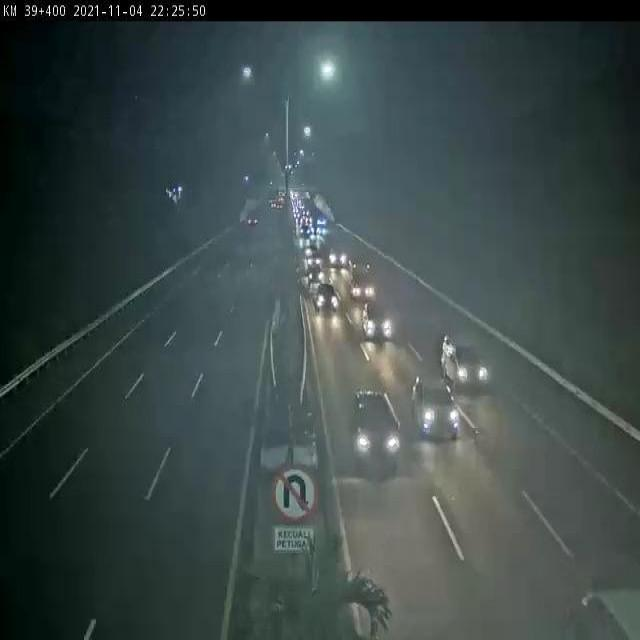car: (349, 385, 409, 484), (568, 574, 640, 640), (432, 332, 504, 395), (410, 372, 463, 448), (357, 302, 402, 346), (315, 287, 344, 316), (326, 245, 348, 268), (306, 266, 329, 282)
truck-s-: (348, 256, 375, 300)
